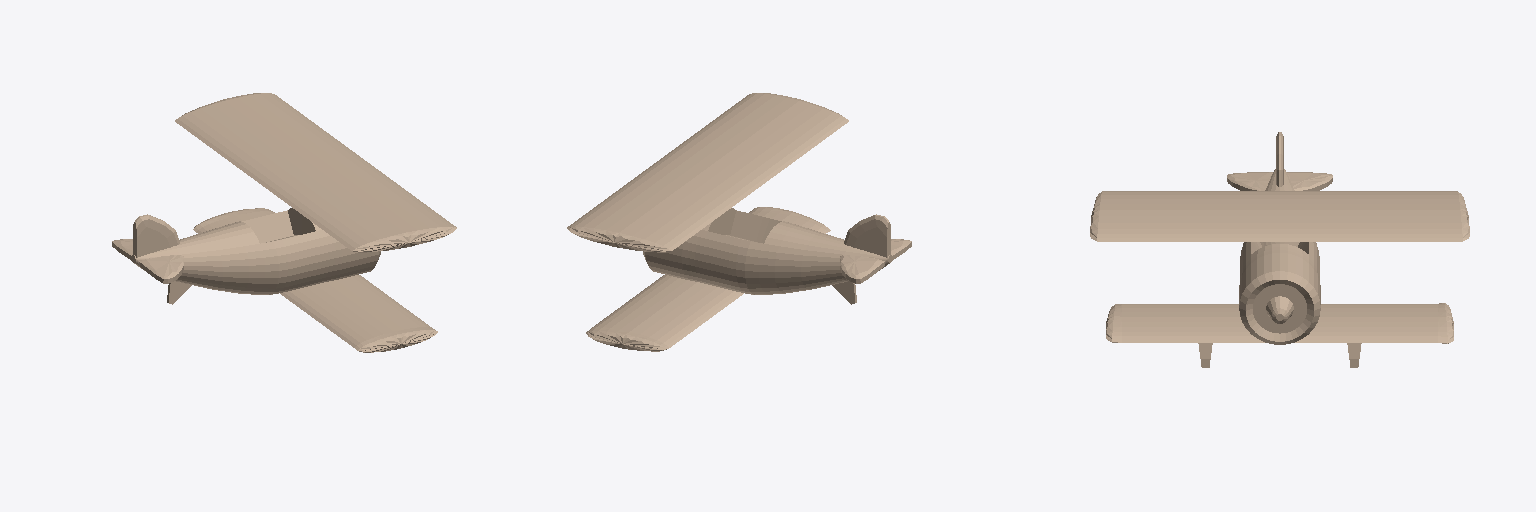
File: FuselageEtAiles.obj
3 renders of one model, left to right at view 1: azimuth 30°, elevation 25°; view 2: azimuth 150°, elevation 25°; view 3: azimuth 270°, elevation 25°, orthographic.
Parts seen in each view (by area): view 1: Fuselage_Cone; view 2: Fuselage_Cone; view 3: Fuselage_Cone.
Part boxes in pixels (x1,y1,x2,y2): Fuselage_Cone: (112,93,456,352); Fuselage_Cone: (567,93,911,351); Fuselage_Cone: (1090,132,1469,367).
Size of the model in its own units: 7.4 by 4.33 by 9.95.